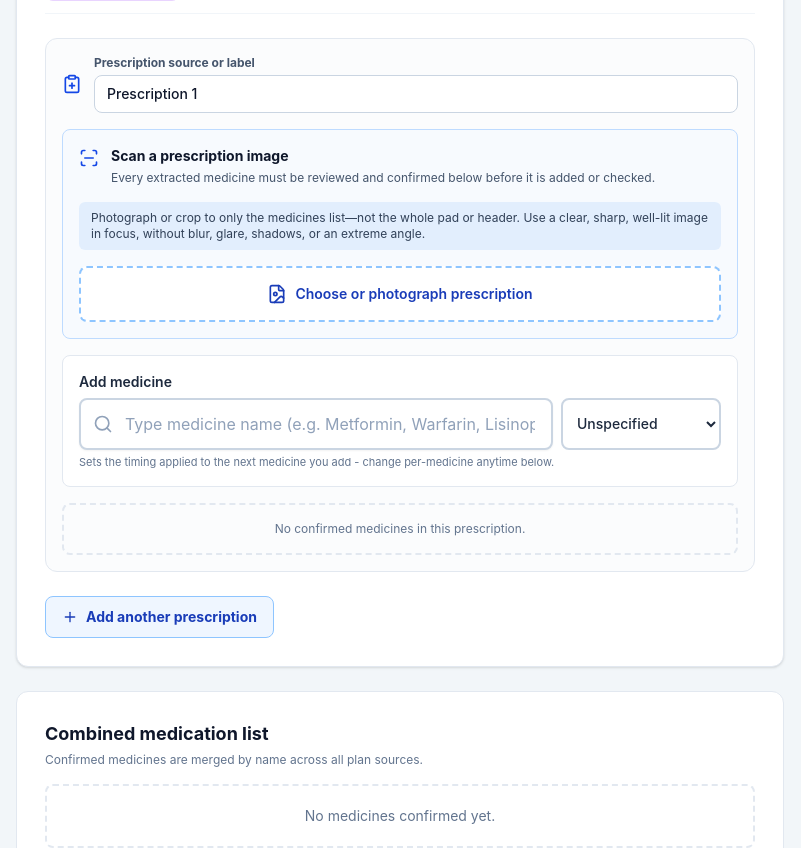
Test: App Full Integration Flow › disables check button with fewer than 2 medicines and enables when 2+ are added
The width and height of the screenshot is (801, 848).
(page scrolled)
Add first drug
Type "metf" into the dropdown labelled "Add medicine". click: (316, 424)
box: x1=79 y1=398 x2=553 y2=450
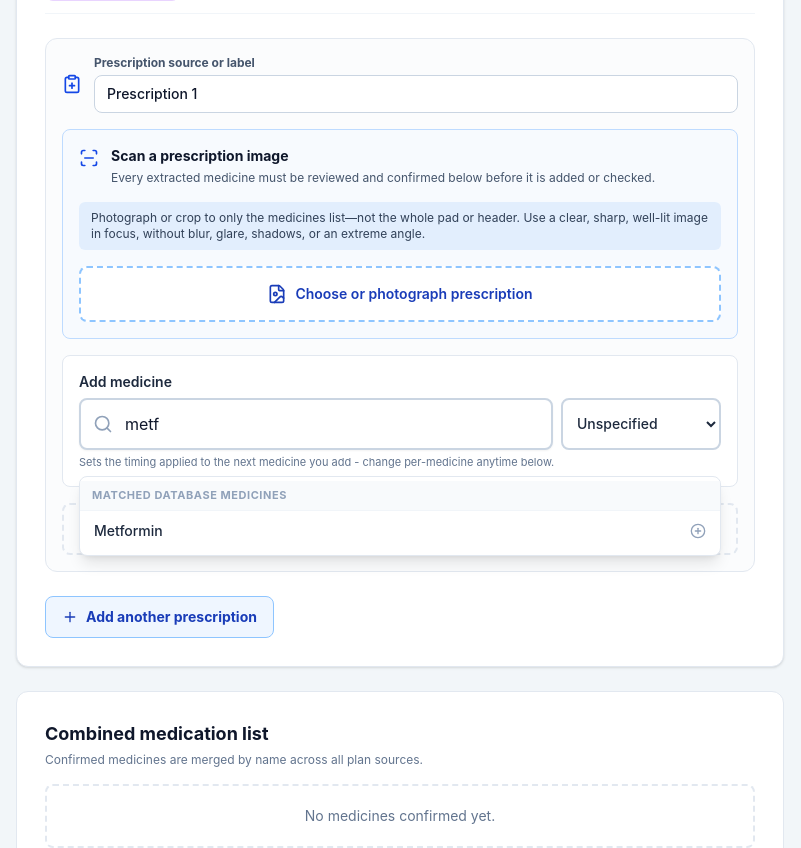
Now the text "Metformin" is shown, box x1=94 y1=520 x2=163 y2=540
Click the option "Metformin". click: (128, 530)
box: x1=80 y1=510 x2=720 y2=550
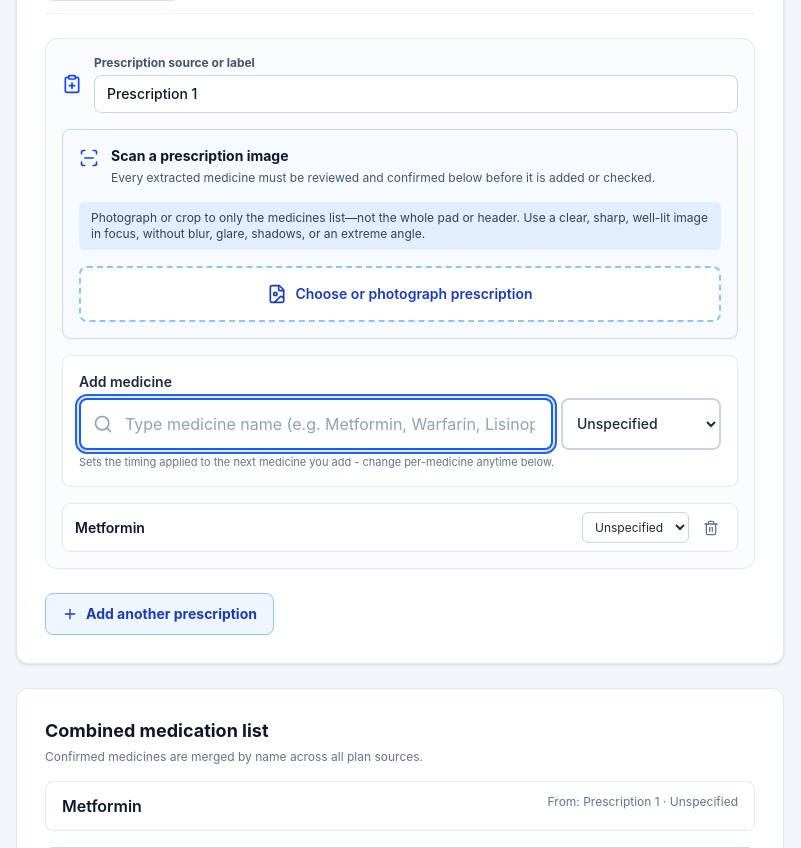
Add second drug
Type "warf" into the dropdown labelled "Add medicine". click: (316, 424)
box: x1=79 y1=398 x2=553 y2=450
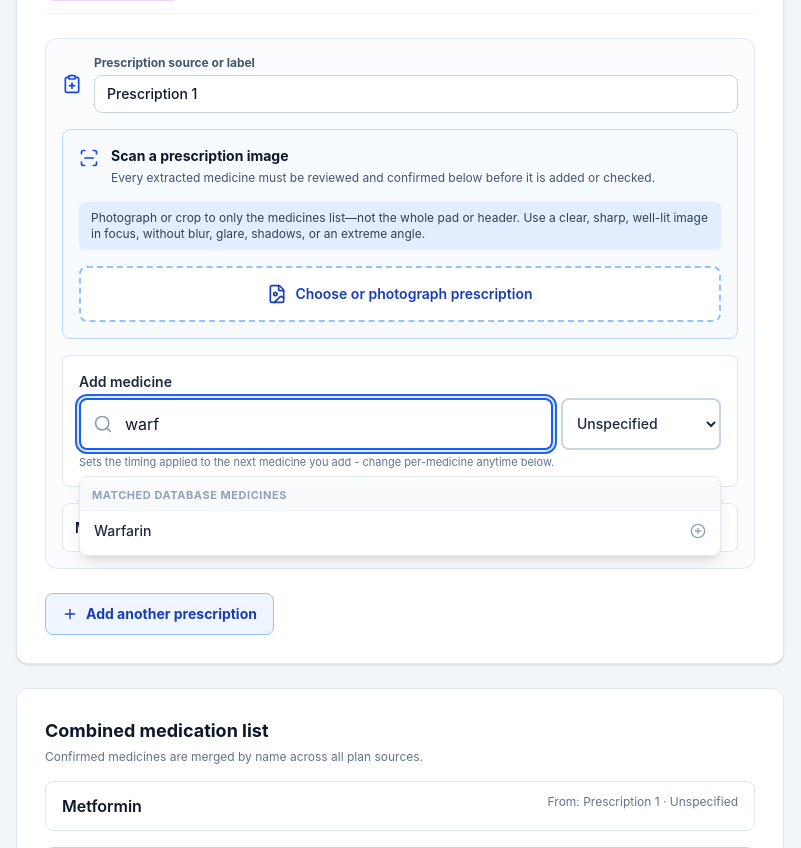
Now the text "Warfarin" is shown, box x1=94 y1=520 x2=151 y2=540
Click the option "Warfarin". click: (123, 530)
box: x1=80 y1=510 x2=720 y2=550
(page scrolled)
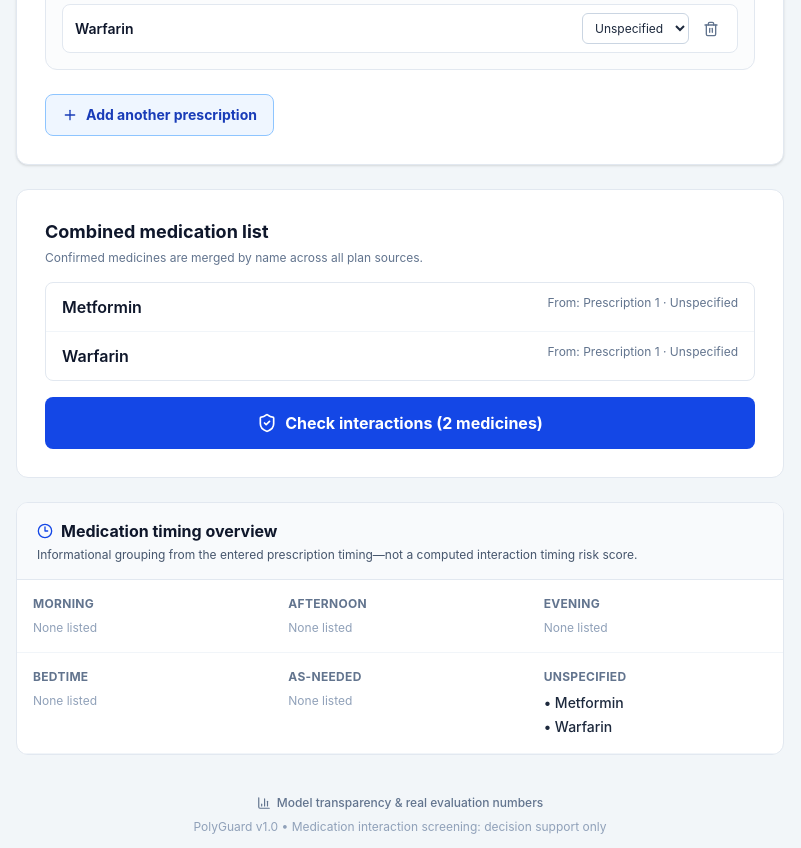
Now the button "Check interactions (2 medicines)" is enabled, box x1=45 y1=397 x2=755 y2=449
